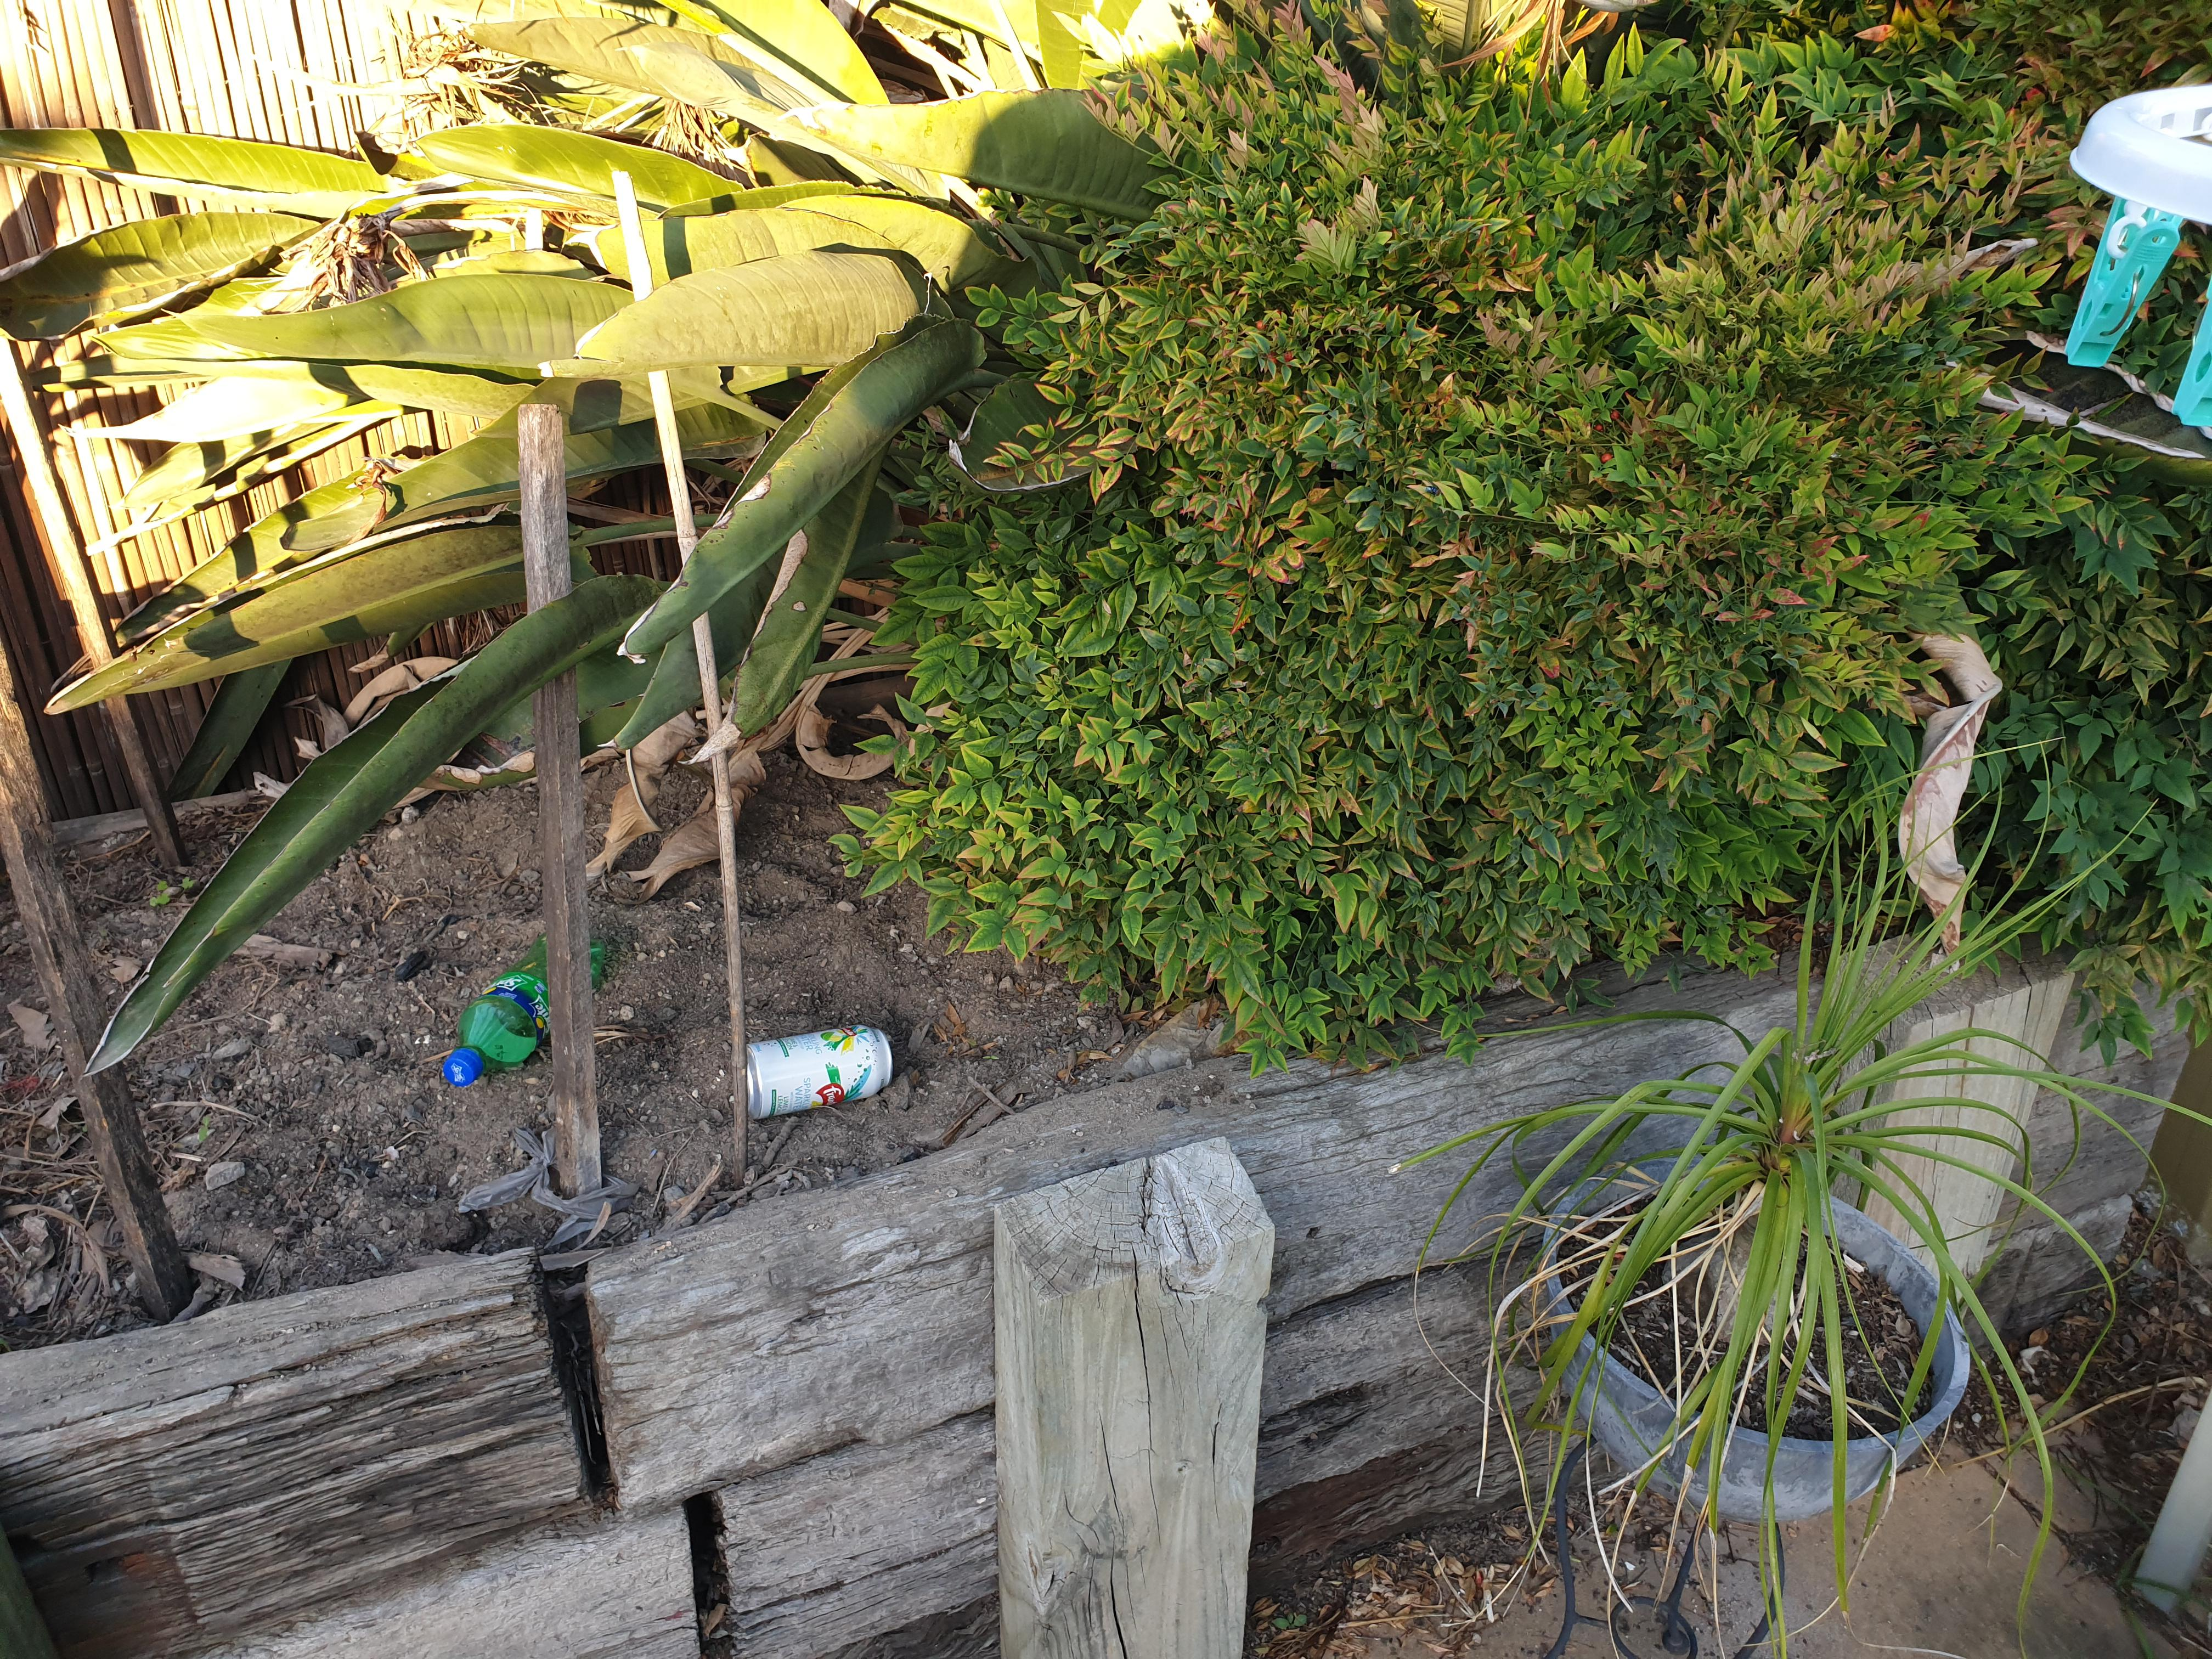Plastic Bottle: (442, 932, 608, 1087), (744, 1025, 894, 1117)
